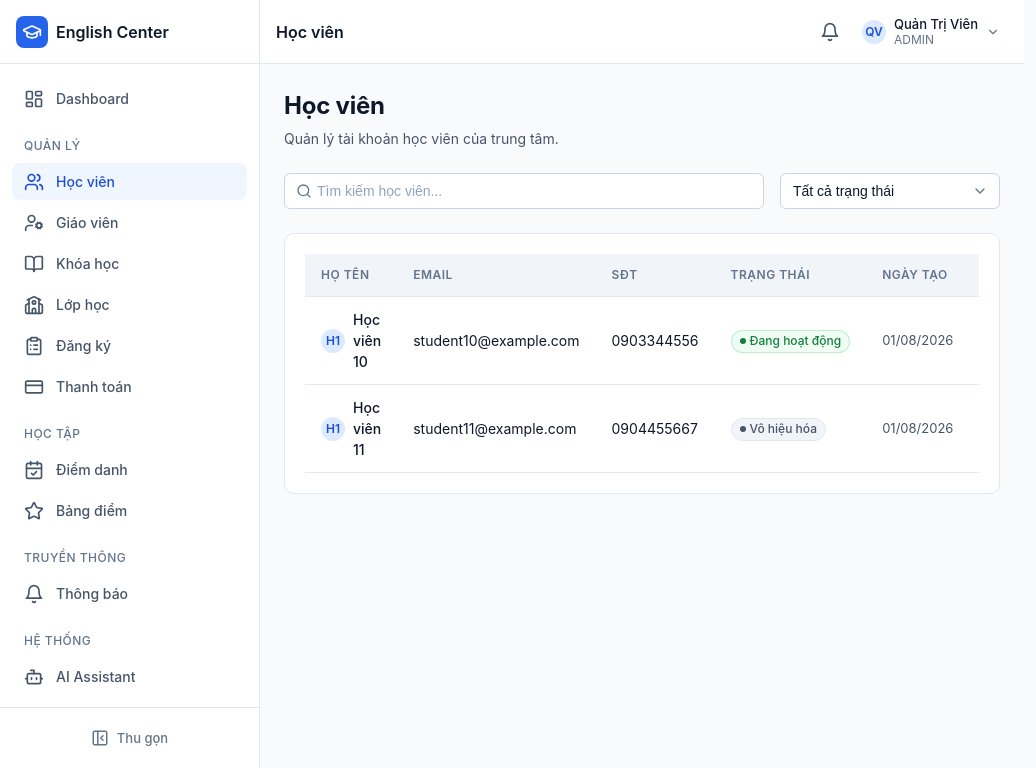
Test: AdminStudentsPage › filters students by search keyword client-side
This screenshot has width=1036, height=768.
Check: the text "Học viên 10" is shown, box [353,309,381,372]
Type "học viên 11" into the search field labelled "Tìm kiếm học viên" at point(524, 191), box [284,173,764,209]
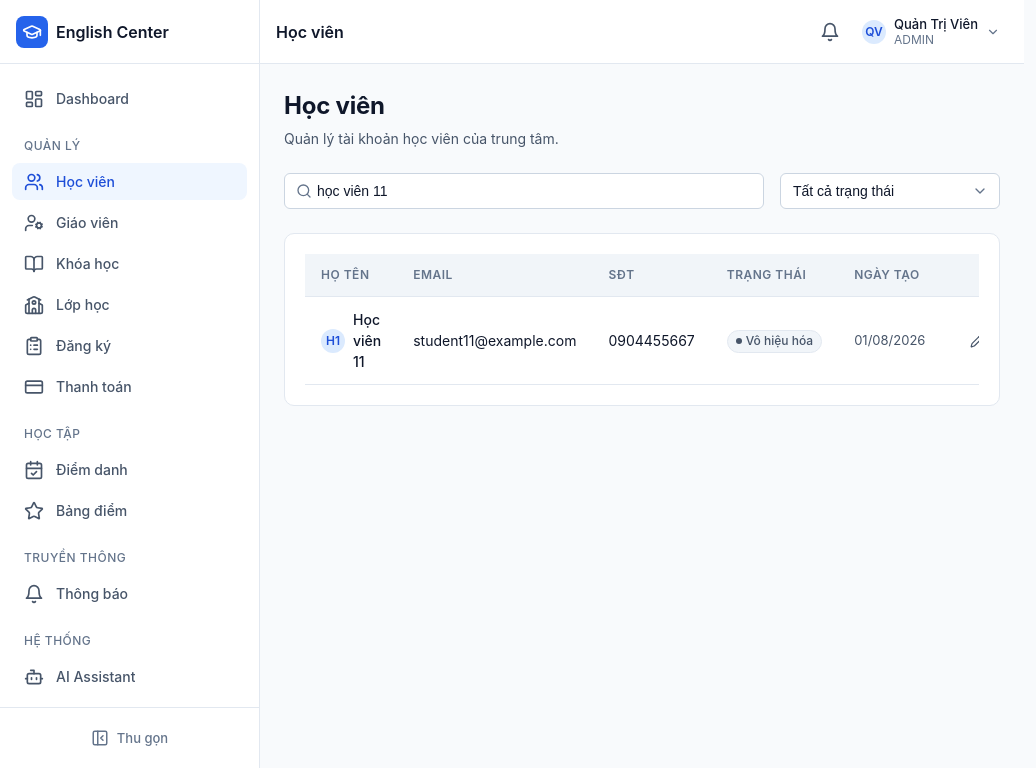
Check: the text "Học viên 11" is shown, box [353,309,381,372]
Check: the text "Học viên 10" is gone
